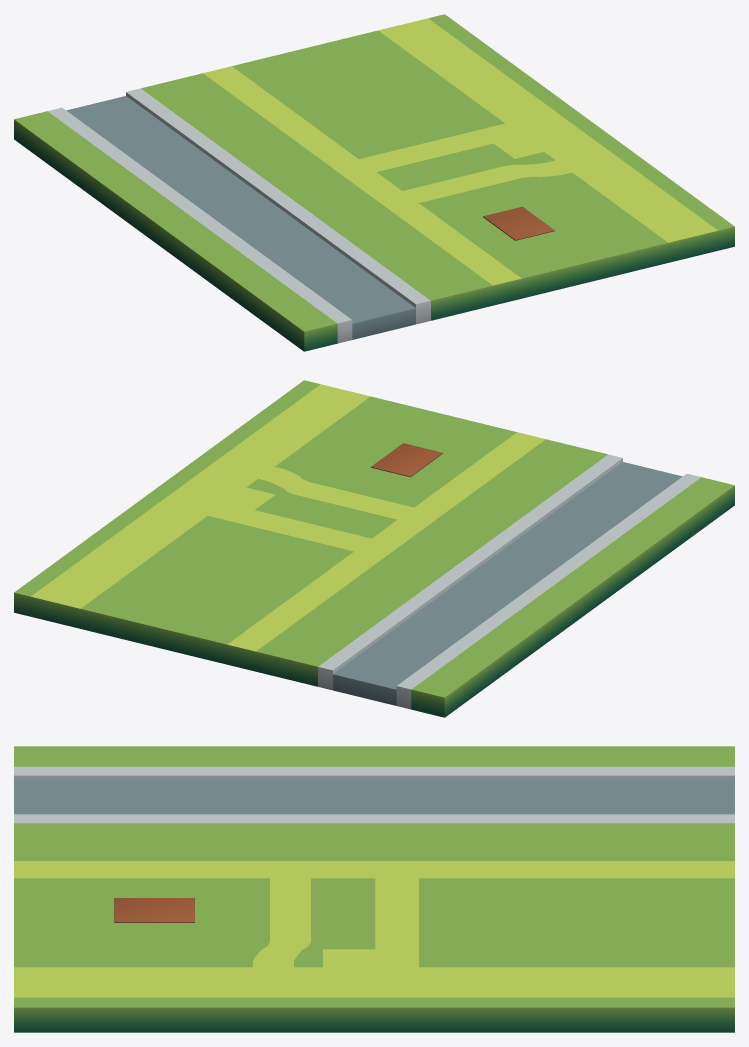
3 renders of one model, top to bottom at view 1: azimuth 30°, elevation 25°; view 2: azimuth 150°, elevation 25°; view 3: azimuth 270°, elevation 25°, orthographic. The views are drawn at different scales.
Parts seen in each view (by area): view 1: Base; view 2: Base; view 3: Base.
Part boxes in pixels (left/top/right/bottom): Base: left=14, top=14, right=734, bottom=351; Base: left=14, top=380, right=734, bottom=717; Base: left=14, top=746, right=734, bottom=1032.
Bounding box in the file's own units: 22.9 × 1.06 × 26.72.
